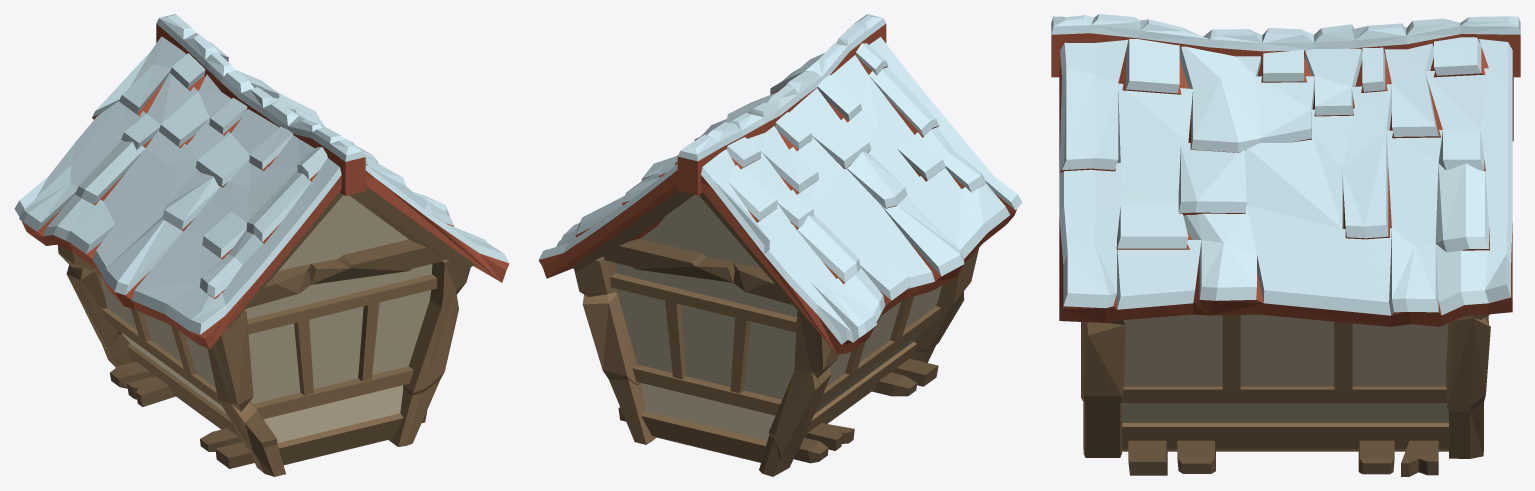
Rendered from SM_Bld_House_TopRoomSmall_07_Snow.gltf.
3 views of the same model, side by side, from view 1: azimuth 30°, elevation 25°; view 2: azimuth 150°, elevation 25°; view 3: azimuth 270°, elevation 25° (orthographic). The views are drawn at different scales.
Parts seen in each view (by area): view 1: SM_Bld_House_TopRoomSmall_07_Snow; view 2: SM_Bld_House_TopRoomSmall_07_Snow; view 3: SM_Bld_House_TopRoomSmall_07_Snow.
Boxes of the visible parts, x1=… form: SM_Bld_House_TopRoomSmall_07_Snow: x1=14, y1=14, x2=509, y2=476; SM_Bld_House_TopRoomSmall_07_Snow: x1=538, y1=14, x2=1022, y2=476; SM_Bld_House_TopRoomSmall_07_Snow: x1=1051, y1=14, x2=1520, y2=476.
Bounding box in the file's own units: 4.68 × 4.37 × 4.67.
1 material, 1 textured.
